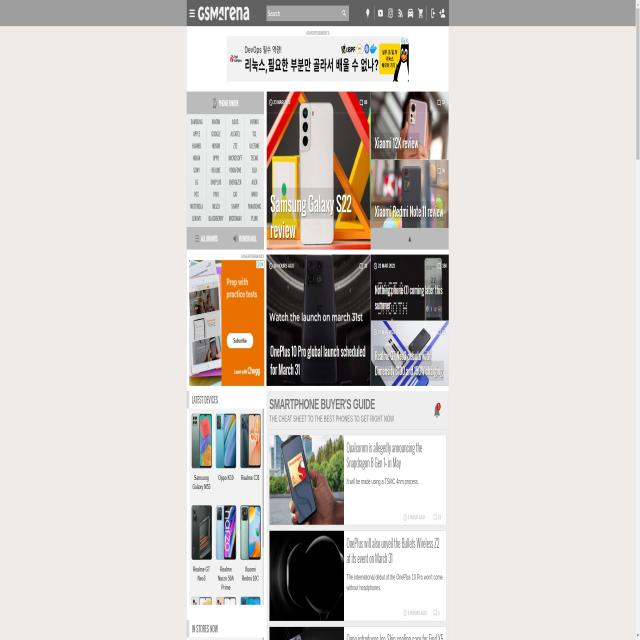menu-bar: (362, 1, 447, 21)
search: (265, 2, 350, 20)
side-panel: (185, 388, 265, 639)
